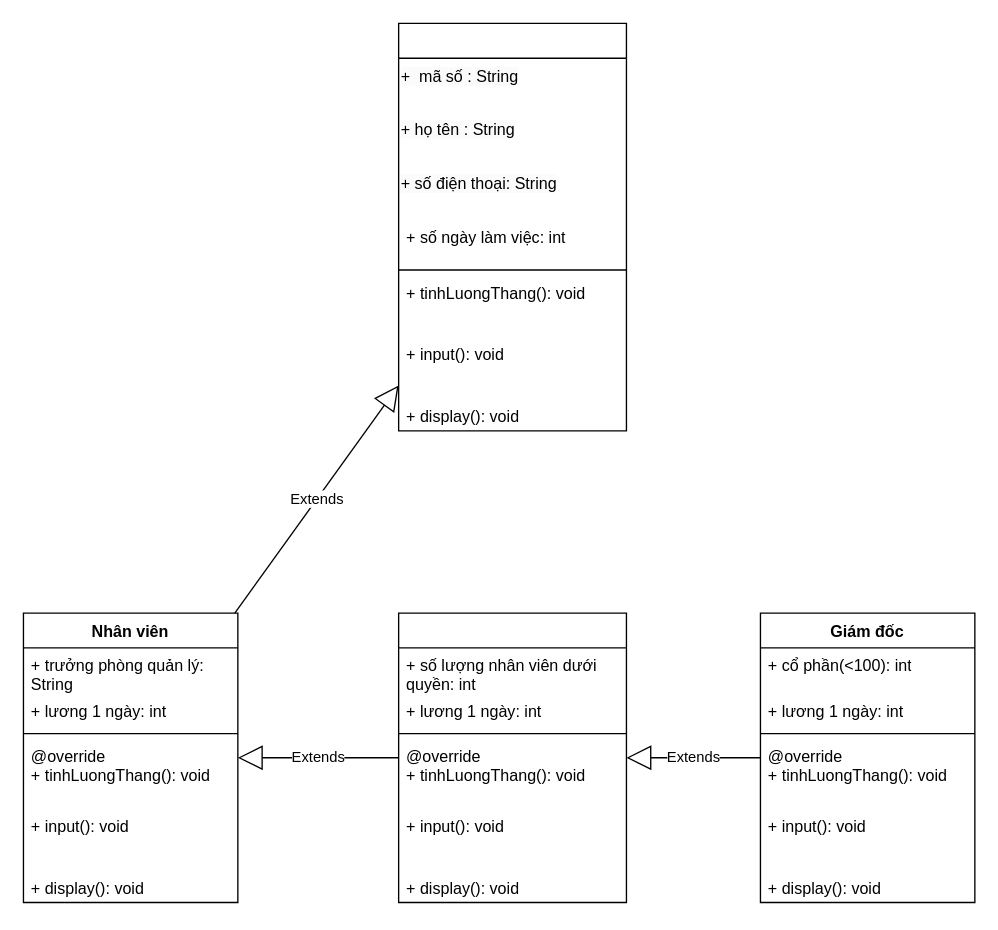
This 998x930 diagram has some shape labels left out. Each missing label, with the box of its shape:
Person: (397, 22, 626, 431)
Trưởng phòng: (397, 612, 626, 902)
